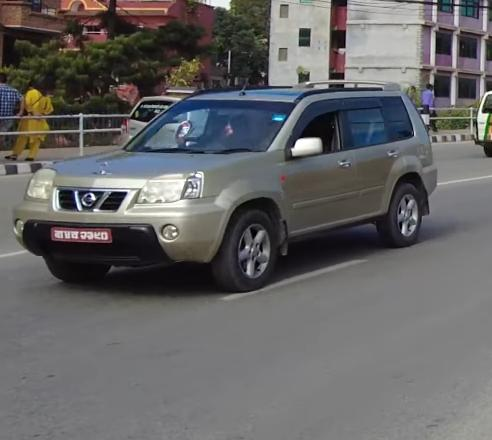SUV: (8, 72, 454, 301)
